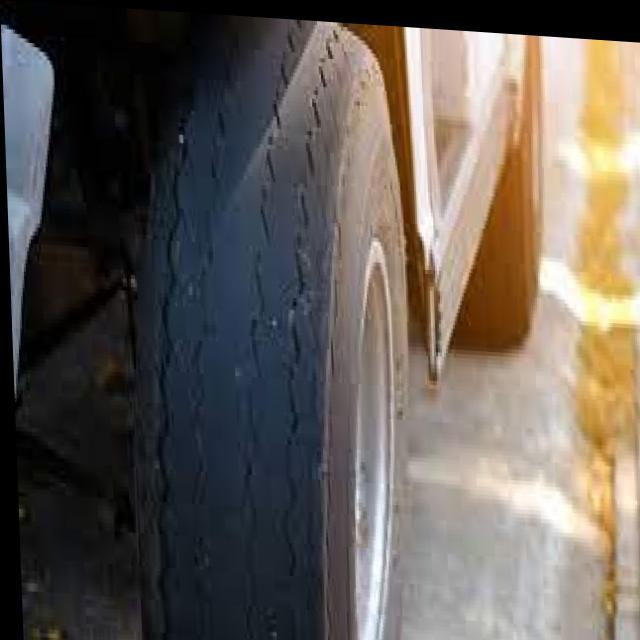Flat spots: (54, 24, 298, 639)
